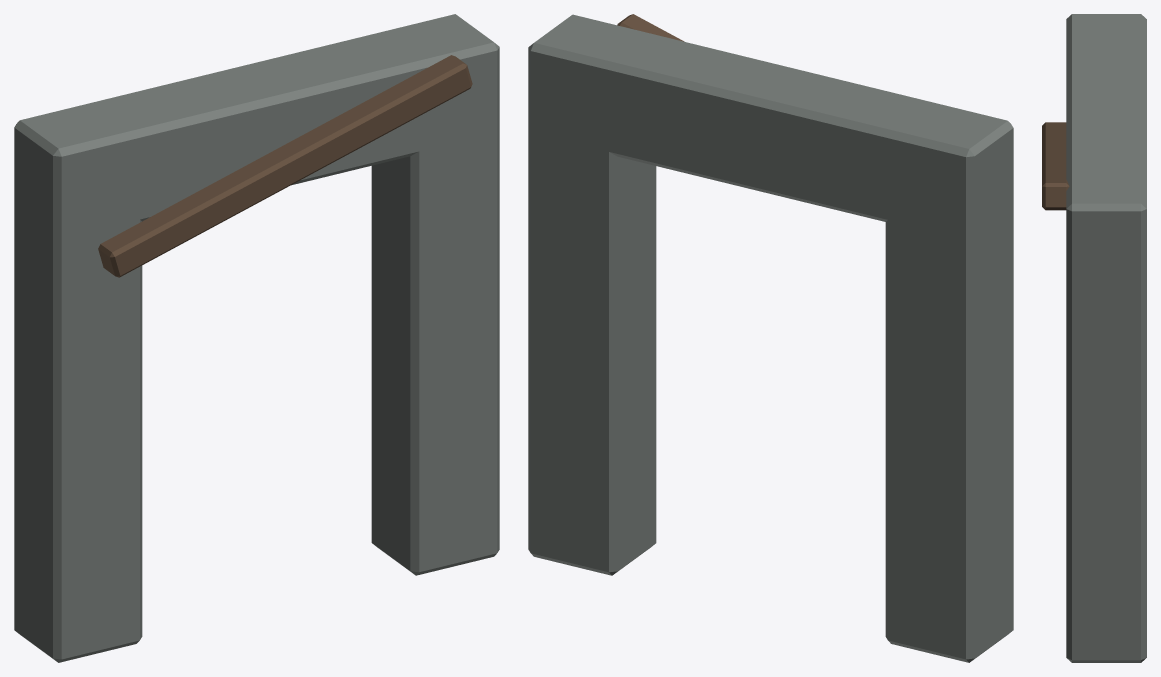
File: architecture-village-arch.lod0.glb
The picture shows the model from 3 angles, left to right: view 1: azimuth 30°, elevation 25°; view 2: azimuth 150°, elevation 25°; view 3: azimuth 270°, elevation 25°; orthographic projection. The views are drawn at different scales.
Parts seen in each view (by area): view 1: architecture-village-arch__body; view 2: architecture-village-arch__body; view 3: architecture-village-arch__body.
Boxes of the visible parts, box(x1,y1,x2,y2) form: architecture-village-arch__body: box(14, 14, 499, 662); architecture-village-arch__body: box(528, 14, 1013, 662); architecture-village-arch__body: box(1042, 14, 1146, 662).
Size of the model in its own units: 2 by 2.2 by 0.455.
